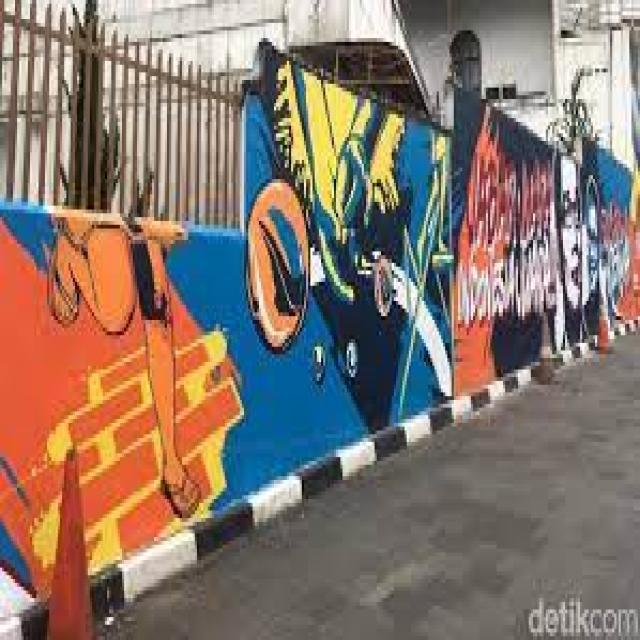-: (0, 207, 242, 604), (243, 50, 454, 491), (454, 95, 640, 375)
